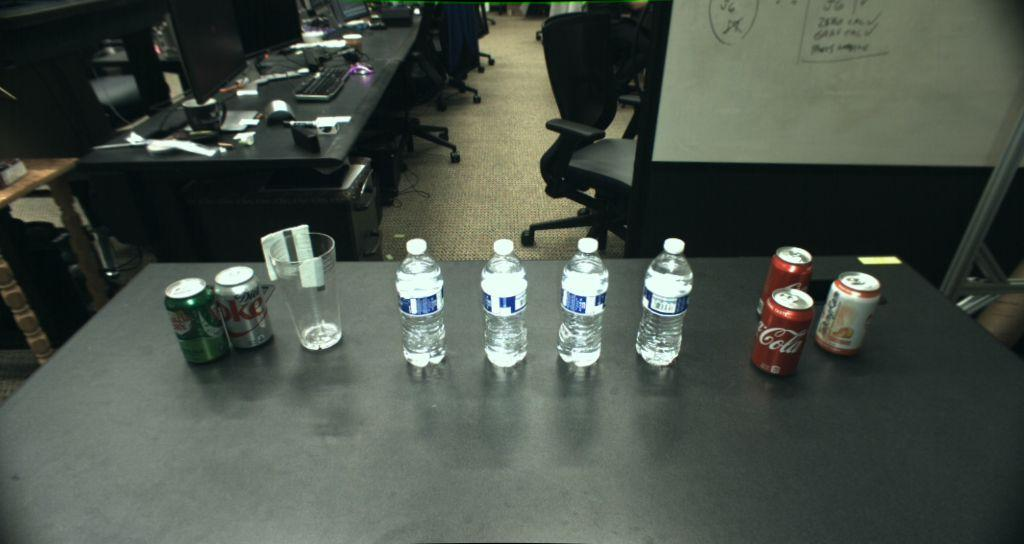can_coke: (751, 287, 814, 376), (757, 244, 814, 324)
can_diet_coke: (212, 266, 274, 350)
can_ginger_ale: (166, 278, 230, 364)
can_talking_rain_peach_nectarine: (815, 271, 881, 354)
water_bottle: (635, 238, 693, 367), (557, 237, 608, 367), (396, 238, 445, 367), (480, 239, 527, 368)
